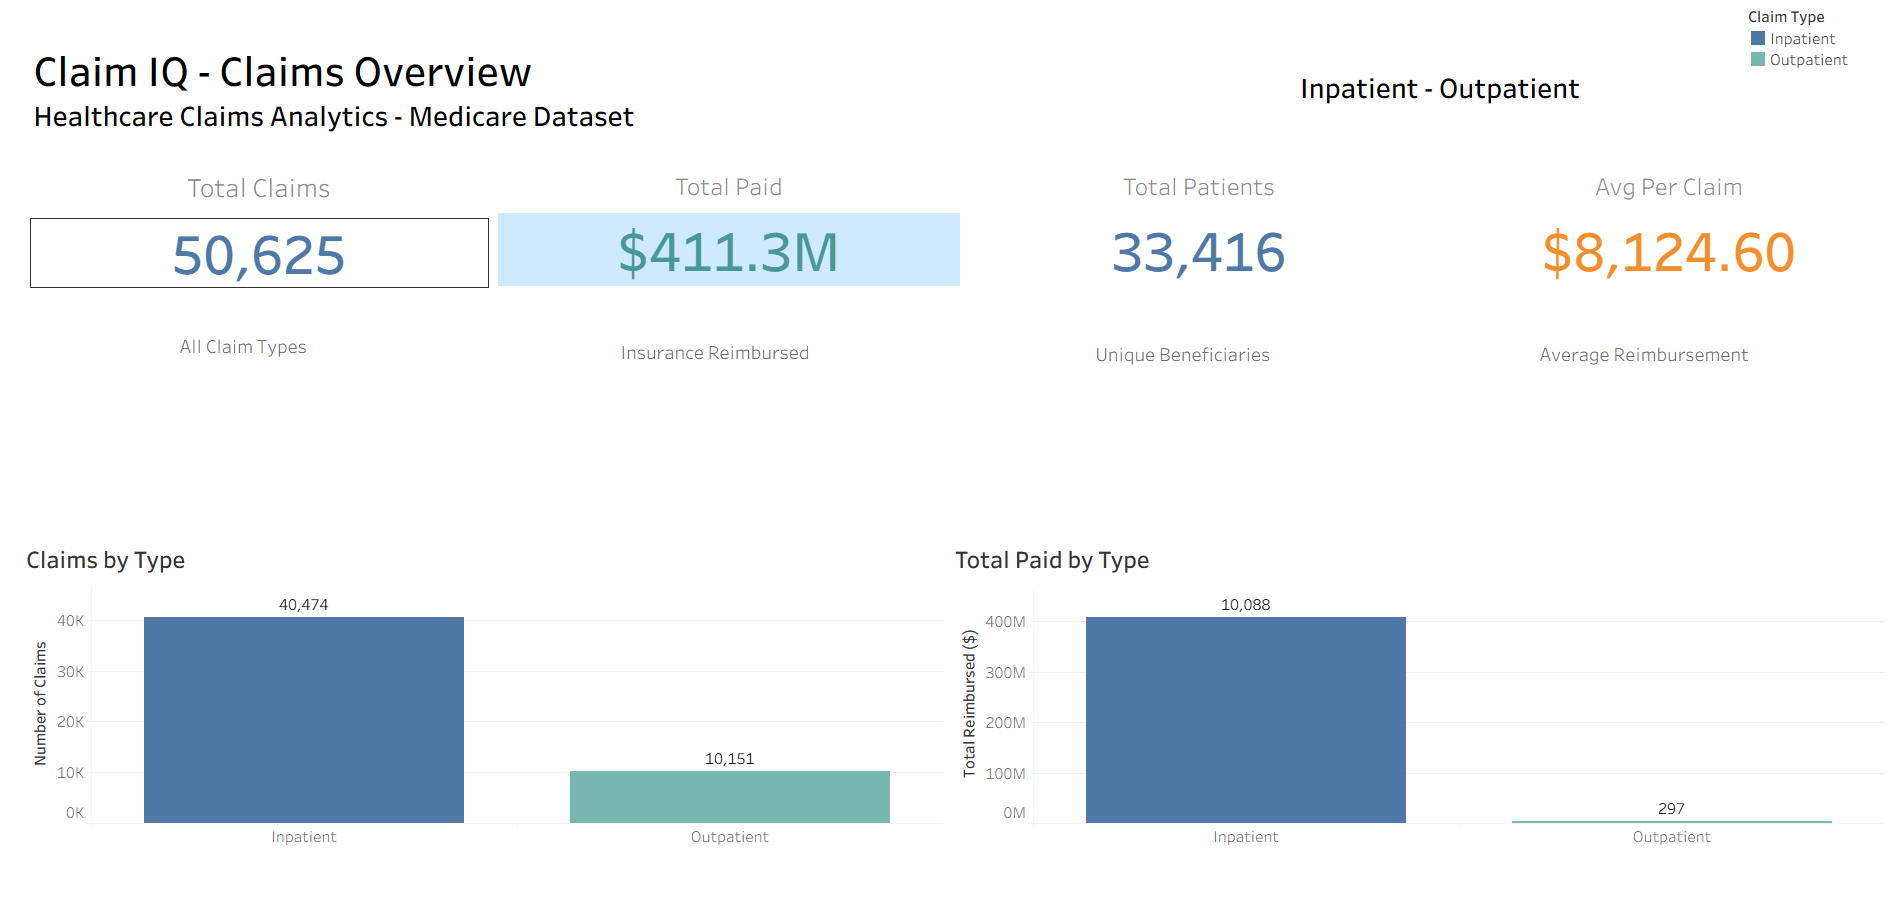

The page's visual inventory and layout, read from the dashboard file:
{"tool":"tableau","page":{"name":"Dashboard 1 - Claims Overview","canvas":[1000,1000],"units":"permille","ordinal":0},"visuals":[{"type":"legend","title":"Claims by Type - Bar","param":"[federated.1j76fff1nkcj9518bs7ha13ezy4o].[none:ClaimType:nk]","box":[896.8,10,98.3,90.3]},{"type":"text","box":[19.7,12.6,974.2,171.9]},{"type":"text","box":[624.7,62.7,259.2,69]},{"type":"worksheet","title":"KPI - Total Claims","mark":"Automatic","box":[16.6,175.7,244.8,431.6]},{"type":"worksheet","title":"KPI - Total Paid","mark":"Automatic","box":[261.4,175.7,244.8,431.6]},{"type":"worksheet","title":"KPI - Total Patients","mark":"Automatic","box":[506.1,175.7,244.8,431.6]},{"type":"worksheet","title":"KPI - Avg Per Claim","mark":"Automatic","box":[750.9,175.7,244.8,431.6]},{"type":"text","box":[95.8,350.1,82.9,37.6]},{"type":"text","box":[325.6,356.3,120.4,37.6]},{"type":"text","box":[573.1,358.9,111.8,37.6]},{"type":"text","box":[804.1,358.9,133.3,37.6]},{"type":"worksheet","title":"Claims by Type - Bar","mark":"Automatic","rows":["Total_Claims"],"cols":["ClaimType"],"box":[13.5,567.1,483.4,332.5]},{"type":"worksheet","title":"Claims by Type - Cost","mark":"Automatic","rows":["Total_Paid"],"cols":["ClaimType"],"box":[496.9,567.1,491.4,332.5]}]}

Visuals, with their boxes on the dashboard's canvas, which has no fixed pixel size, in thousandths of its width and height (x1, y1, x2, y2). These are canvas units, not pixel positions in the 1902x917 screenshot, which may show the page scaled, cropped or inside an application window:
"Claims by Type - Bar" legend: (897, 10, 995, 100)
text: (20, 13, 994, 184)
text: (625, 63, 884, 132)
"KPI - Total Claims" worksheet: (17, 176, 261, 607)
"KPI - Total Paid" worksheet: (261, 176, 506, 607)
"KPI - Total Patients" worksheet: (506, 176, 751, 607)
"KPI - Avg Per Claim" worksheet: (751, 176, 996, 607)
text: (96, 350, 179, 388)
text: (326, 356, 446, 394)
text: (573, 359, 685, 396)
text: (804, 359, 937, 396)
"Claims by Type - Bar" worksheet: (14, 567, 497, 900)
"Claims by Type - Cost" worksheet: (497, 567, 988, 900)
